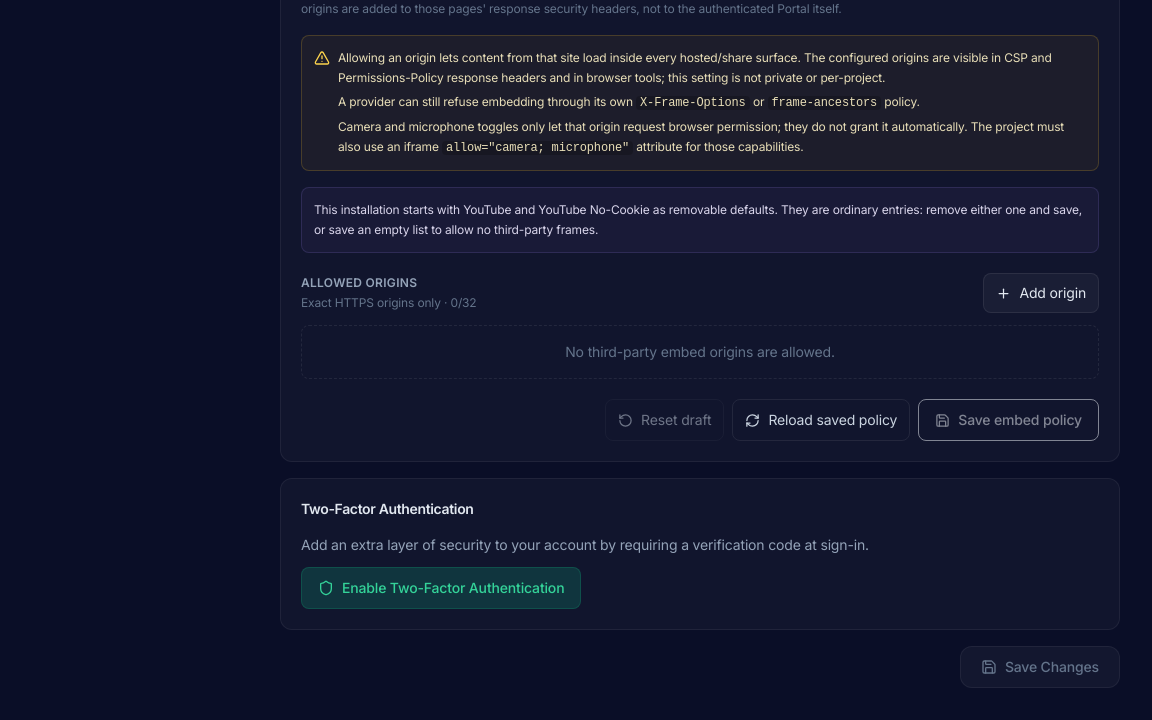
Test: SettingsPage synchronous action ownership › retries a rejected 2FA status readback without repeating accepted enablement
(page scrolled)
Click the button "Enable Two-Factor Authentication".
click(441, 588)  # box [301,567,581,609]
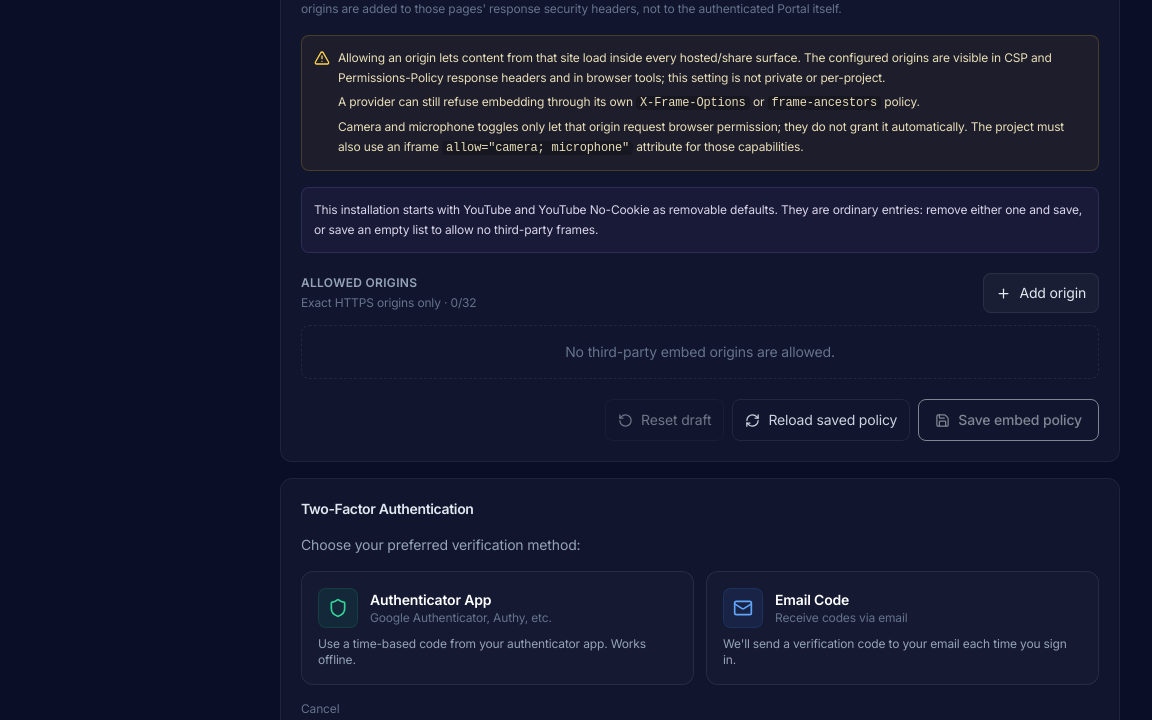
Click the button "Email Code".
click(902, 628)  # box [706,571,1099,685]
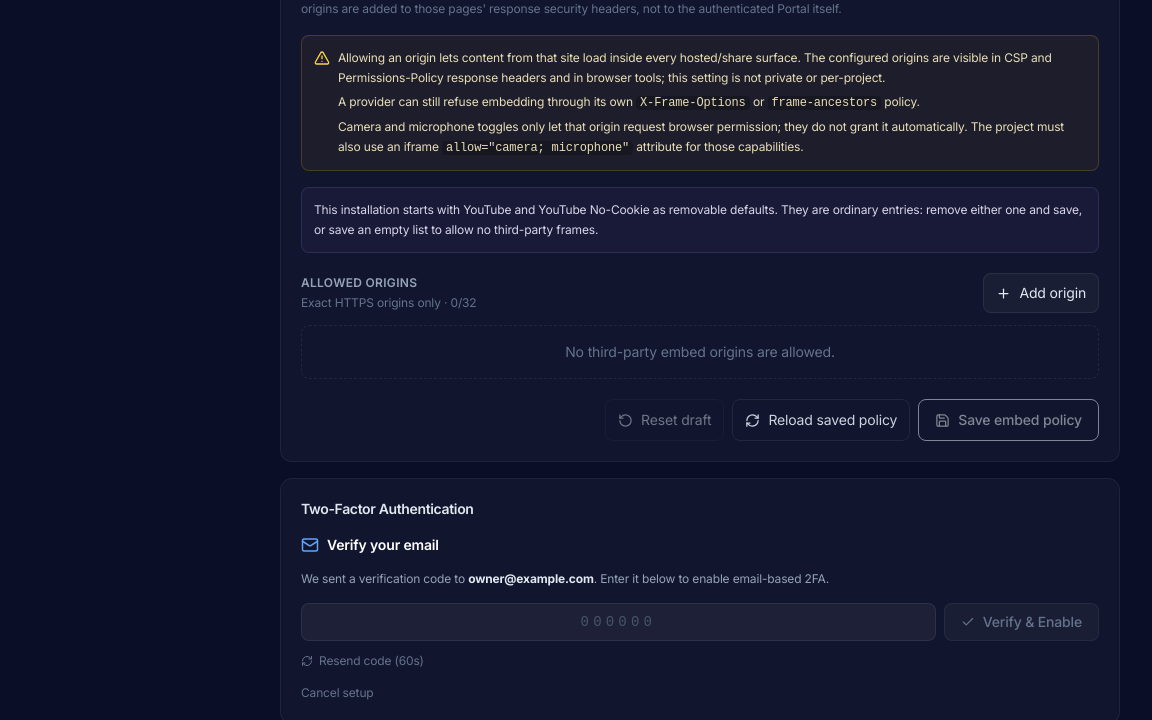
Type "123456" into the field named "Email verification code".
click(618, 622); type("123456")  # box [301,603,936,641]
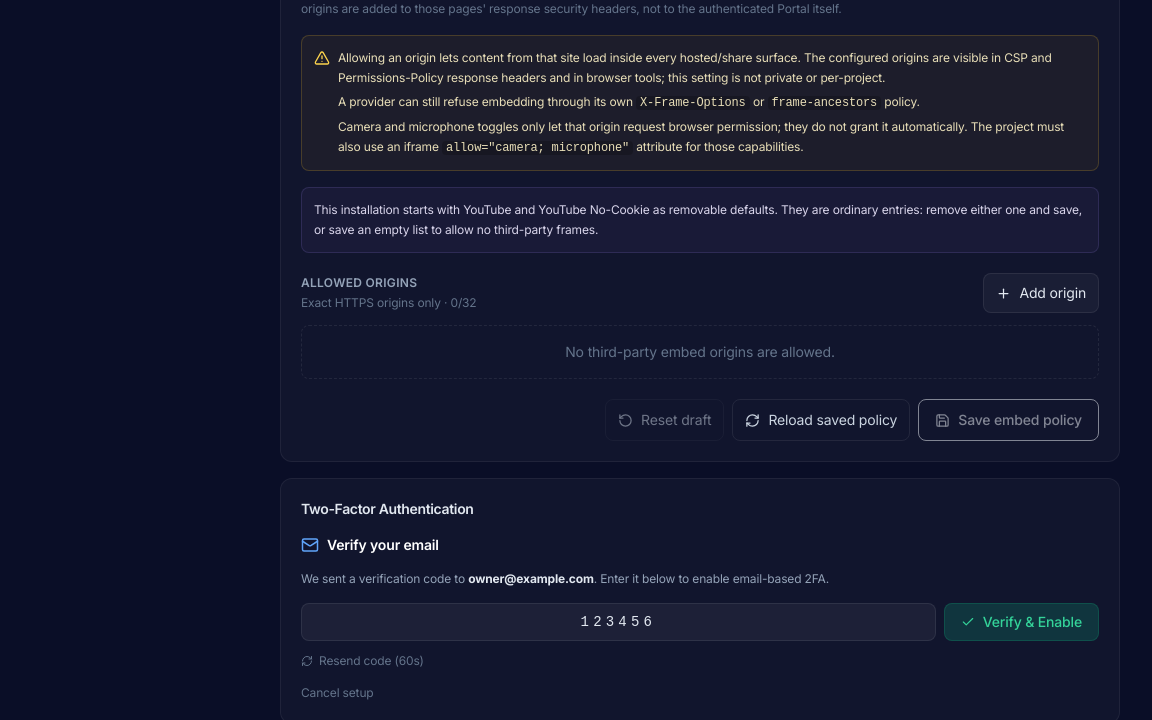
Click the button "Verify & Enable".
click(1021, 622)  # box [944,603,1099,641]
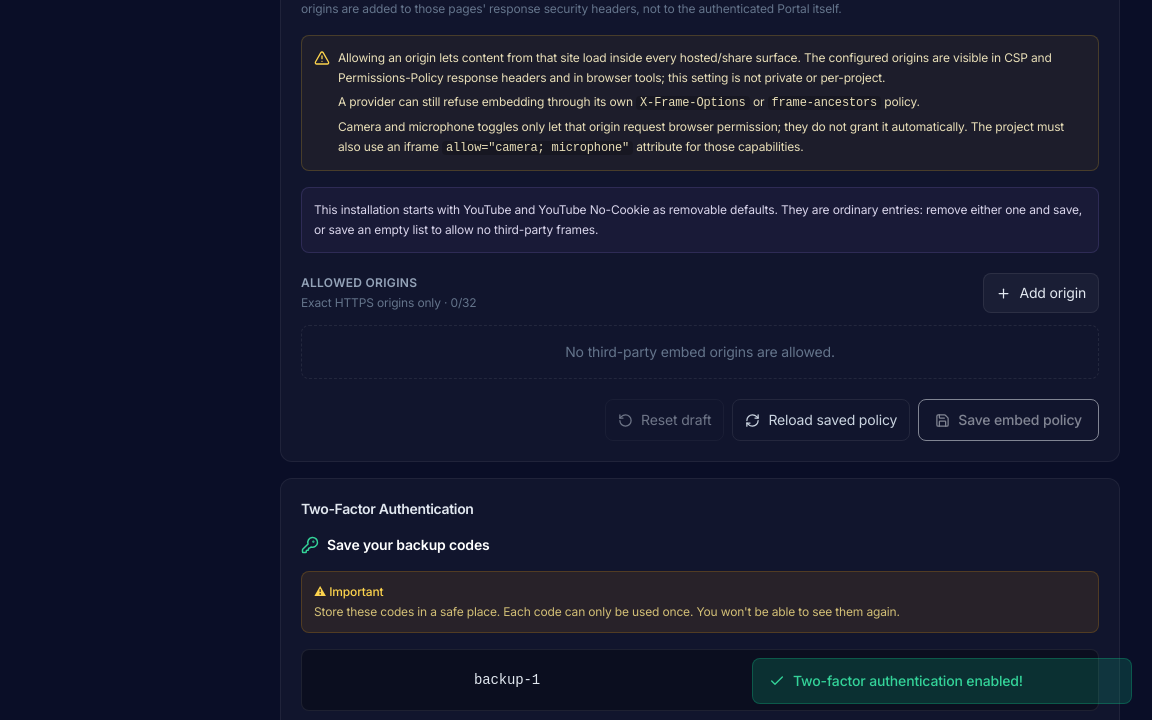
Expected: the text "backup-1" is shown, [474,672,540,688]
